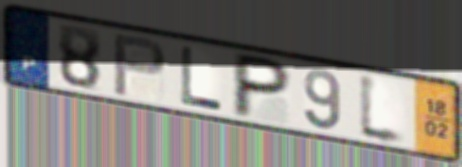8: (55, 23, 104, 91)
9: (301, 67, 342, 133)
L: (356, 69, 411, 152), (178, 44, 224, 114)
P: (229, 50, 295, 121), (111, 32, 170, 99)
